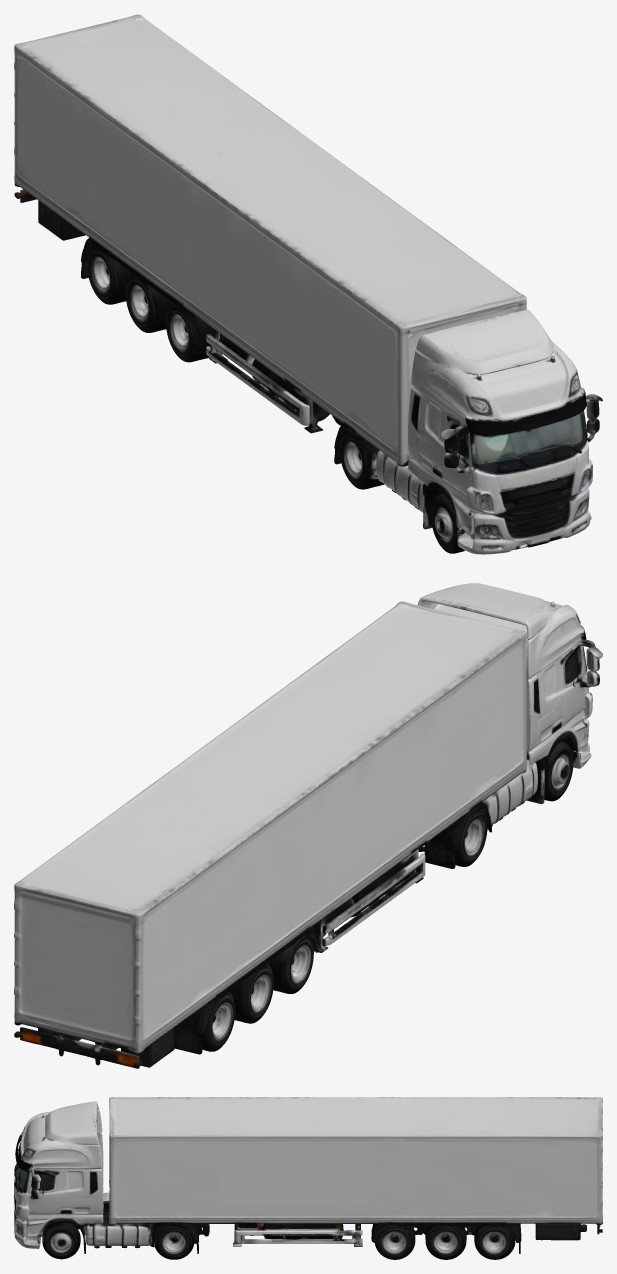
File: semi_hi.glb
The picture shows the model from 3 angles, top to bottom: view 1: azimuth 30°, elevation 25°; view 2: azimuth 150°, elevation 25°; view 3: azimuth 270°, elevation 25°; orthographic projection. The views are drawn at different scales.
Visible parts, largest first — view 1: semi_mesh, semi_decal_L; view 2: semi_mesh, semi_decal_L; view 3: semi_mesh, semi_decal_R.
Part boxes in pixels (x1,y1,x2,y2): semi_mesh: [14, 14, 602, 554]; semi_decal_L: [196, 211, 313, 371]; semi_mesh: [14, 583, 602, 1068]; semi_decal_L: [325, 726, 442, 887]; semi_mesh: [14, 1097, 602, 1259]; semi_decal_R: [219, 1156, 368, 1204].
Size of the model in its own units: 3.31 by 3.92 by 16.6.
Materials: 2 (1 with a texture image).
